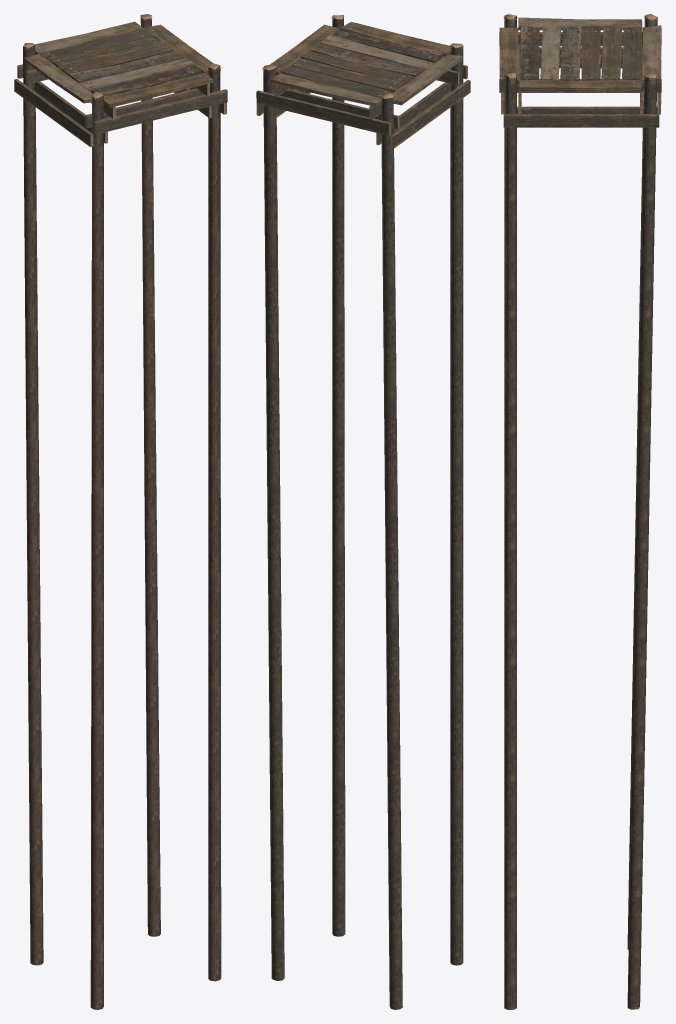
File: wooden_walkway_large_junction.glb
The picture shows the model from 3 angles, left to right: view 1: azimuth 30°, elevation 25°; view 2: azimuth 150°, elevation 25°; view 3: azimuth 270°, elevation 25°; orthographic projection. The views are drawn at different scales.
Parts seen in each view (by area): view 1: wooden_walkway_large_junction_LOD0; view 2: wooden_walkway_large_junction_LOD0; view 3: wooden_walkway_large_junction_LOD0.
Part boxes in pixels (x1,y1,x2,y2): wooden_walkway_large_junction_LOD0: (14, 14, 227, 1009); wooden_walkway_large_junction_LOD0: (256, 15, 470, 1009); wooden_walkway_large_junction_LOD0: (499, 14, 661, 1009).
Size of the model in its own units: 3 by 19.03 by 3.
2 materials, 2 textured.
